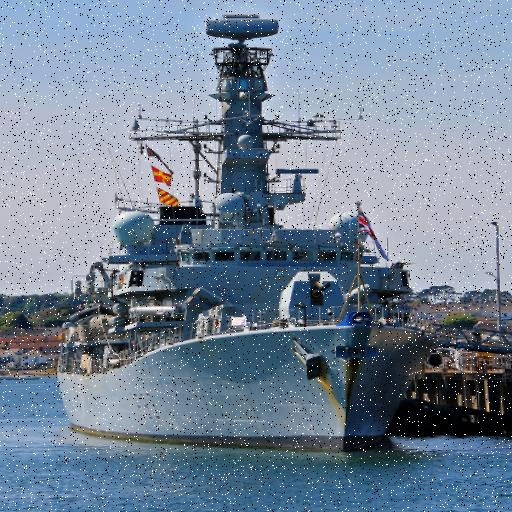Fragata: (54, 12, 445, 457)
